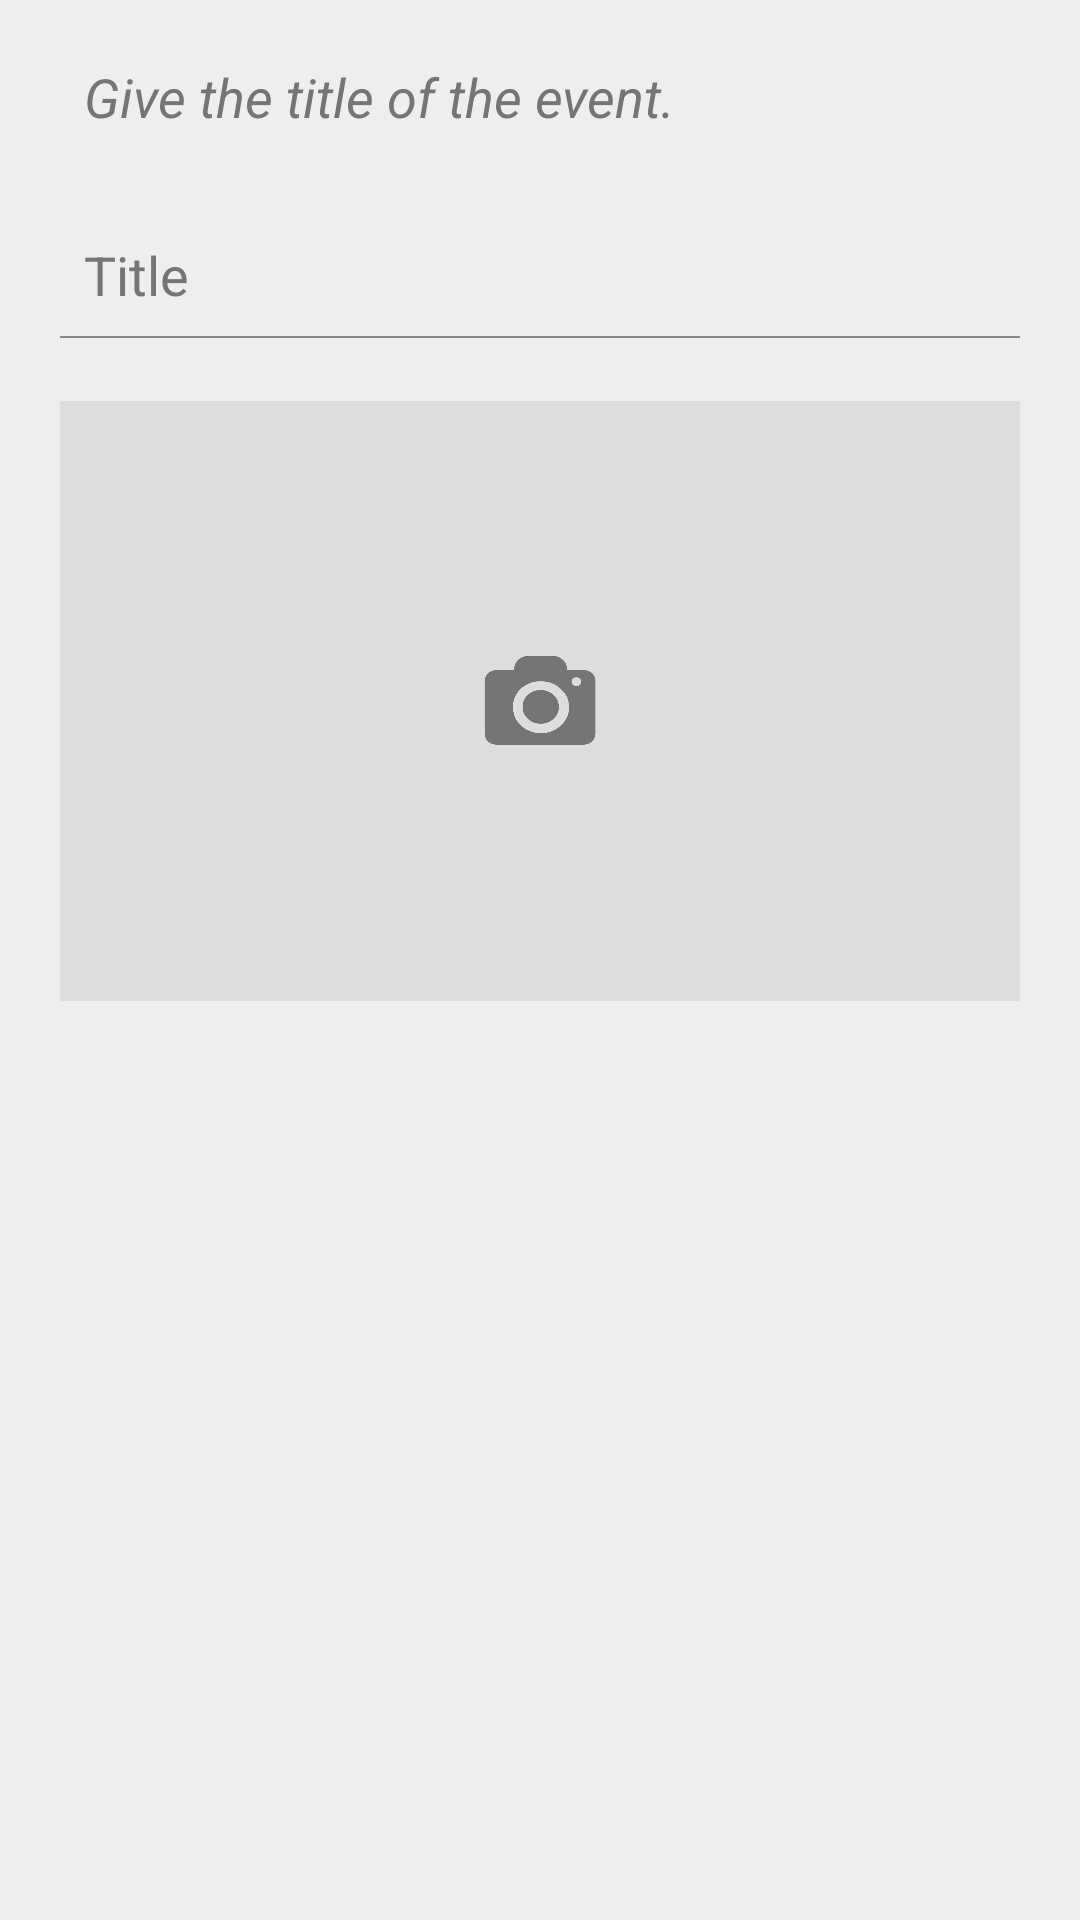

Screen size 1080 × 1920. Icon name, then its box in pixels as [left=x1, top=y1, right=x2, bottom=y2]:
camera: [left=485, top=656, right=596, bottom=745]
